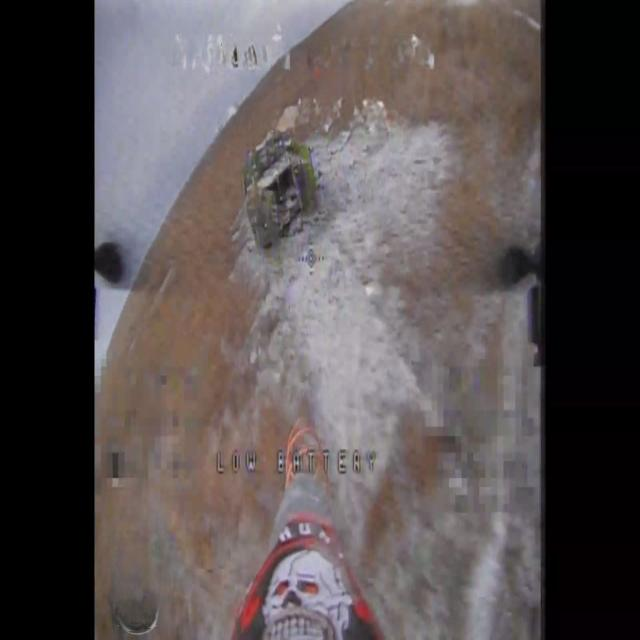AIFV: (245, 123, 319, 253)
